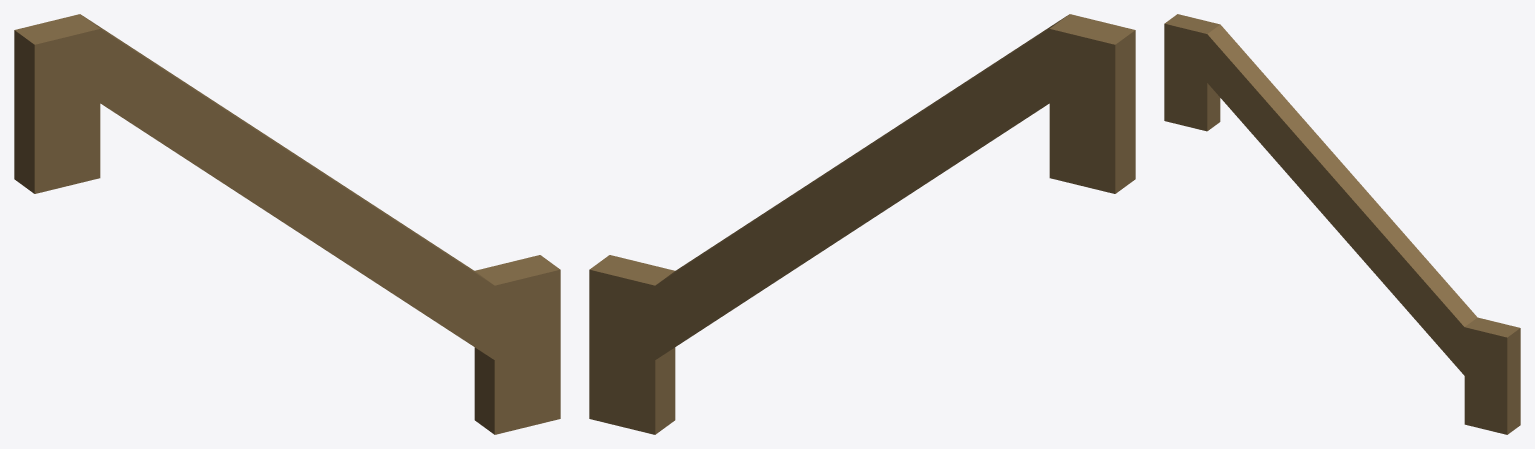
File: Wood_Railing_01.obj
The picture shows the model from 3 angles, left to right: view 1: azimuth 30°, elevation 25°; view 2: azimuth 150°, elevation 25°; view 3: azimuth 330°, elevation 25°; orthographic projection. The views are drawn at different scales.
Parts seen in each view (by area): view 1: Mesh1_Wood_Railing_Model; view 2: Mesh1_Wood_Railing_Model; view 3: Mesh1_Wood_Railing_Model.
Part boxes in pixels (x1=…): Mesh1_Wood_Railing_Model: x1=14, y1=14, x2=560, y2=434; Mesh1_Wood_Railing_Model: x1=589, y1=14, x2=1135, y2=434; Mesh1_Wood_Railing_Model: x1=1164, y1=14, x2=1520, y2=434.
Size of the model in its own units: 3 by 2.74 by 0.2.
